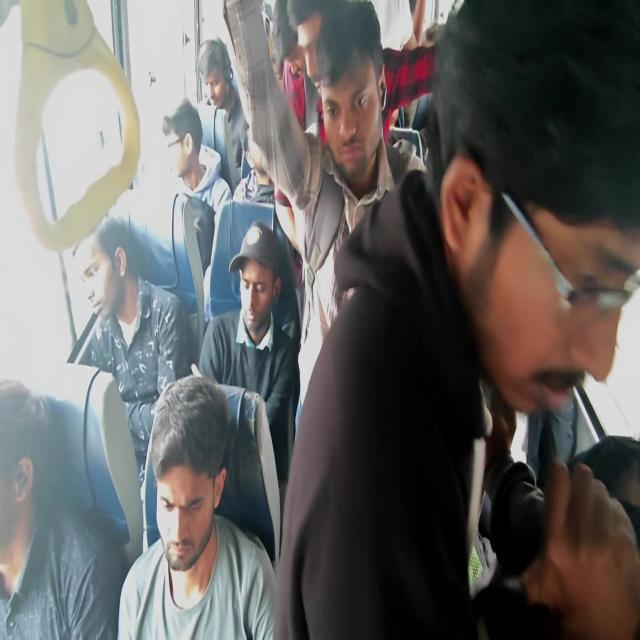person: (472, 183, 638, 423), (138, 397, 231, 600), (1, 380, 67, 603), (309, 0, 389, 180), (72, 218, 130, 328), (271, 0, 317, 136), (234, 226, 281, 331), (410, 5, 446, 132), (166, 108, 207, 208), (237, 119, 281, 206), (198, 34, 234, 111), (268, 40, 284, 85), (424, 20, 443, 45), (406, 0, 418, 17)
